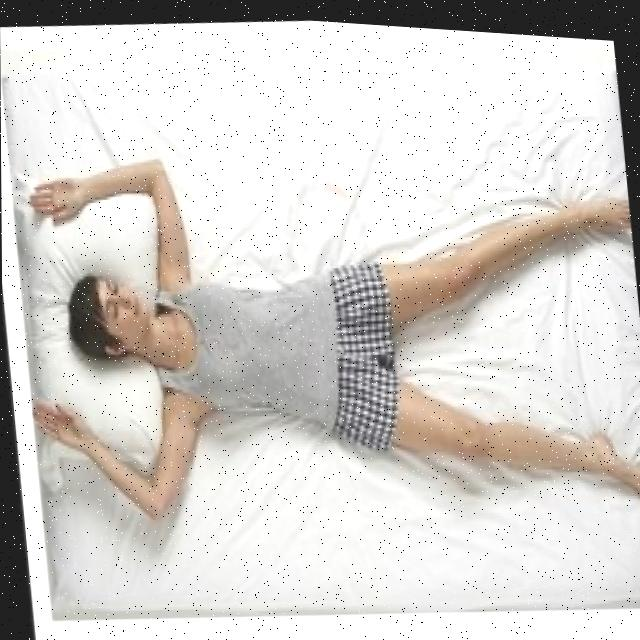sleeping-person: (7, 69, 640, 609)
